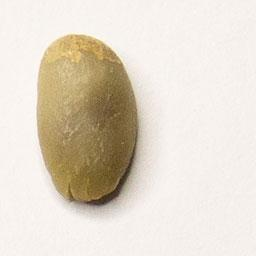longberry: (32, 31, 143, 206)
